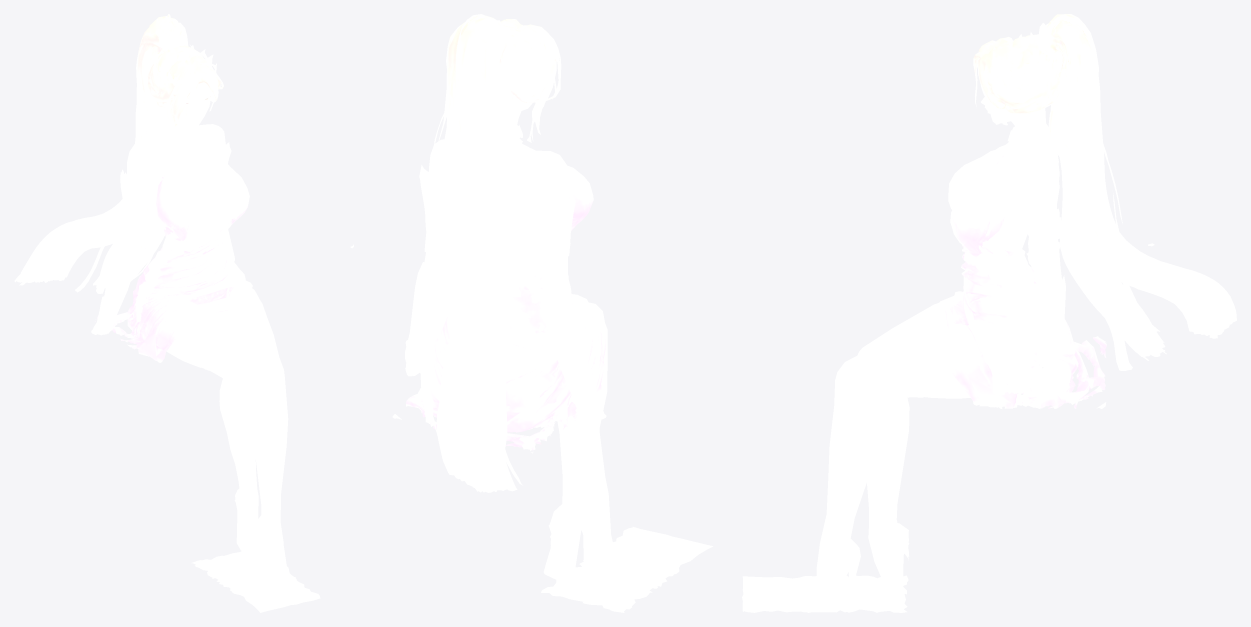
The model's file is thay-boi-tarot.glb.
The picture shows the model from 3 angles, left to right: view 1: azimuth 30°, elevation 25°; view 2: azimuth 150°, elevation 25°; view 3: azimuth 270°, elevation 25°; orthographic projection. The views are drawn at different scales.
Parts seen in each view (by area): view 1: body; view 2: body; view 3: body.
Part boxes in pixels (x1=…): body: x1=14, y1=14, x2=320, y2=612; body: x1=350, y1=14, x2=712, y2=612; body: x1=742, y1=14, x2=1236, y2=612.
Size of the model in its own units: 0.4185 by 1.28 by 0.98.
Materials: 1 (1 with a texture image).
